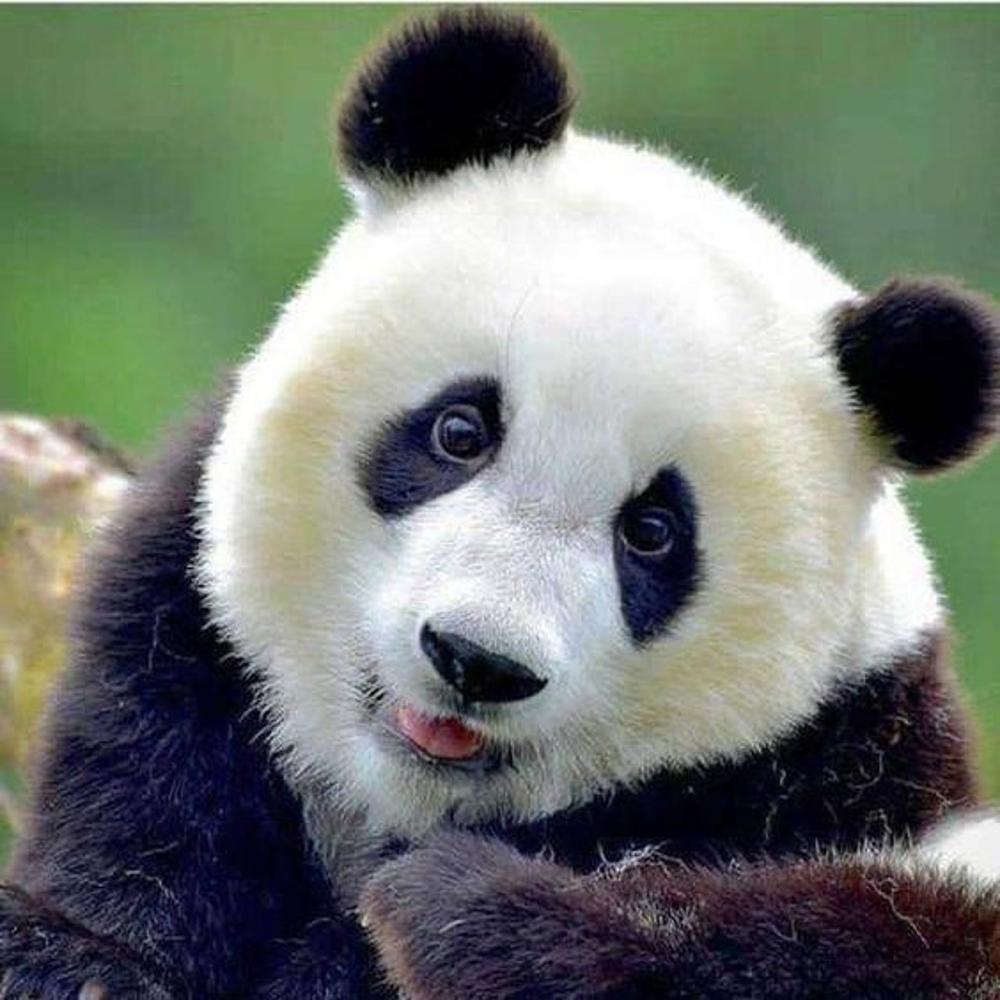panda: (68, 14, 1000, 1000)
